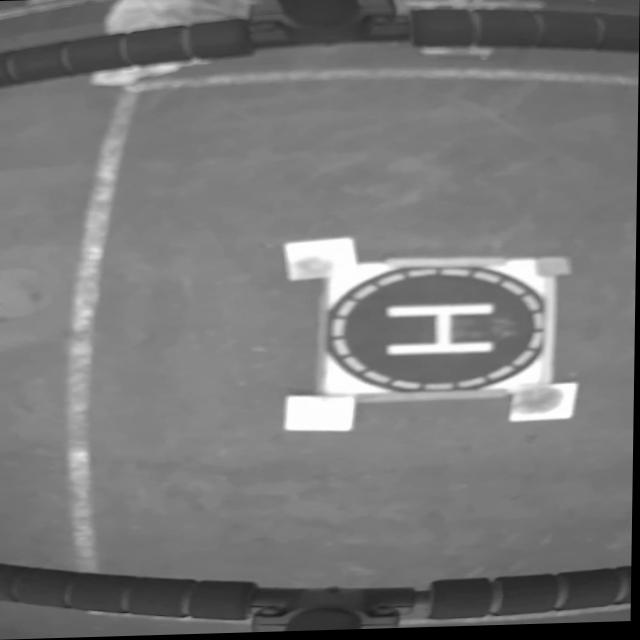Helipad: (387, 306, 495, 357)
